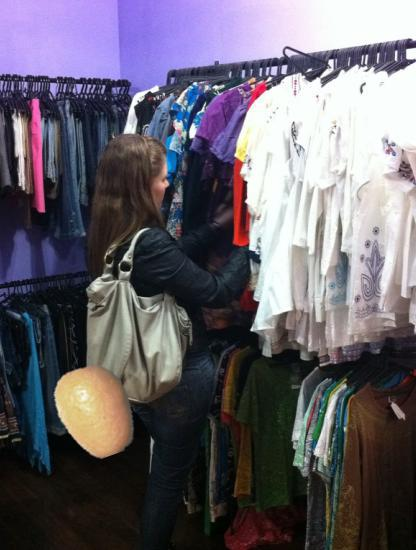Kumquats: (48, 363, 144, 459)
